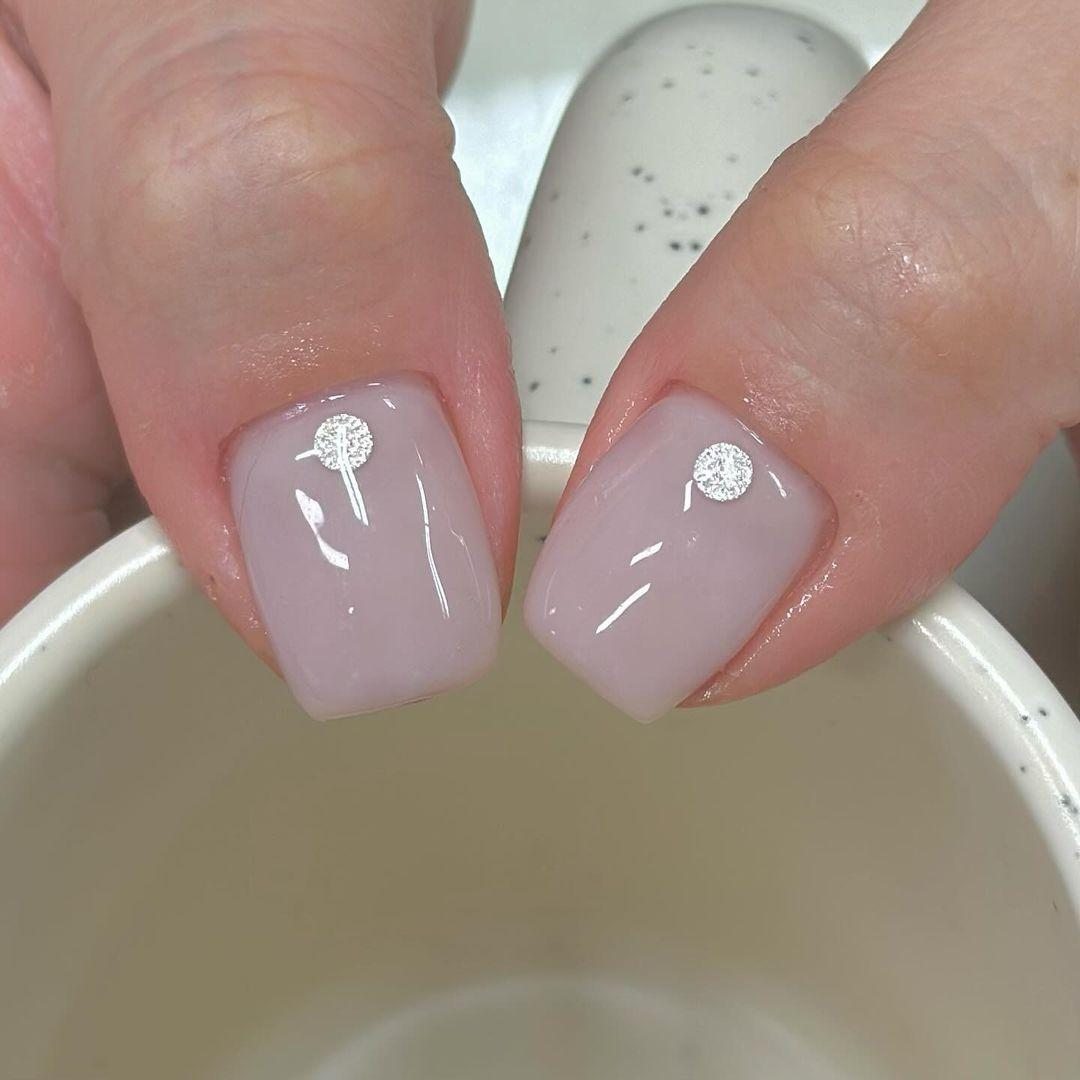nail: (520, 380, 838, 723), (220, 368, 505, 721)
